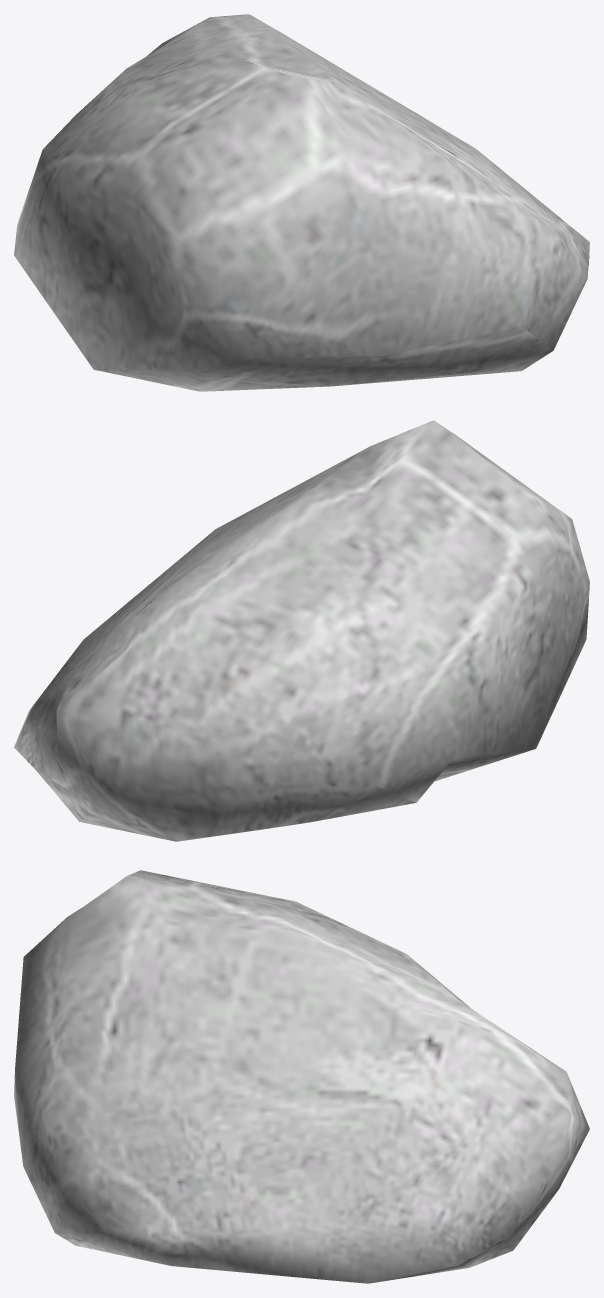
Rendered from campfire_rocks005.fbx.
3 renders of one model, top to bottom at view 1: azimuth 30°, elevation 25°; view 2: azimuth 150°, elevation 25°; view 3: azimuth 270°, elevation 25°, orthographic. The views are drawn at different scales.
Visible parts, largest first — view 1: campfire_rocks005; view 2: campfire_rocks005; view 3: campfire_rocks005.
Part boxes in pixels (x1=…): campfire_rocks005: x1=14, y1=14, x2=589, y2=391; campfire_rocks005: x1=14, y1=420, x2=589, y2=841; campfire_rocks005: x1=14, y1=870, x2=589, y2=1283.
Bounding box in the file's own units: 43.62 × 29.41 × 50.82.
